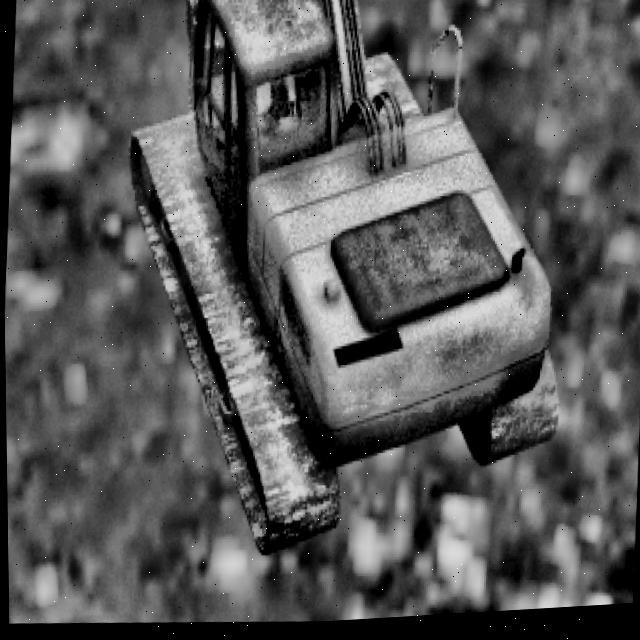excavator: (105, 0, 579, 580)
